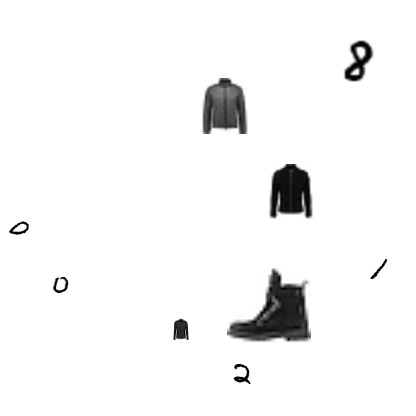0: (5, 214, 33, 242), (49, 274, 71, 296)
1: (364, 255, 392, 283)
2: (228, 360, 256, 388)
8: (329, 33, 385, 89)
Ankle_boot: (227, 263, 311, 347)
Coat: (262, 164, 318, 220), (197, 78, 253, 134)
Shirt: (170, 318, 192, 340)
